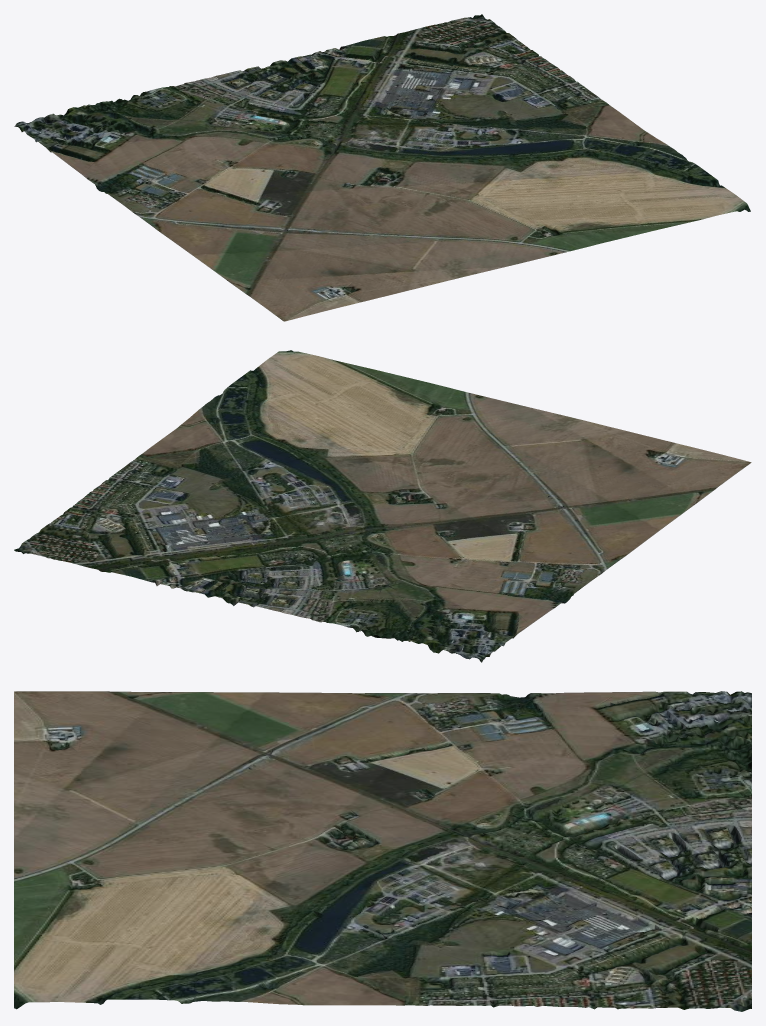
The model's file is map_10_255_430.dae.
3 views of the same model, one above another, from view 1: azimuth 30°, elevation 25°; view 2: azimuth 150°, elevation 25°; view 3: azimuth 270°, elevation 25° (orthographic). The views are drawn at different scales.
Parts seen in each view (by area): view 1: Ter0; view 2: Ter0; view 3: Ter0.
Boxes of the visible parts, bbox=[...] form: Ter0: bbox=[14, 14, 750, 321]; Ter0: bbox=[14, 350, 751, 662]; Ter0: bbox=[14, 691, 751, 1011].
Bounding box in the file's own units: 2044 × 2044 × 40.62.
3 materials, 3 textured.
